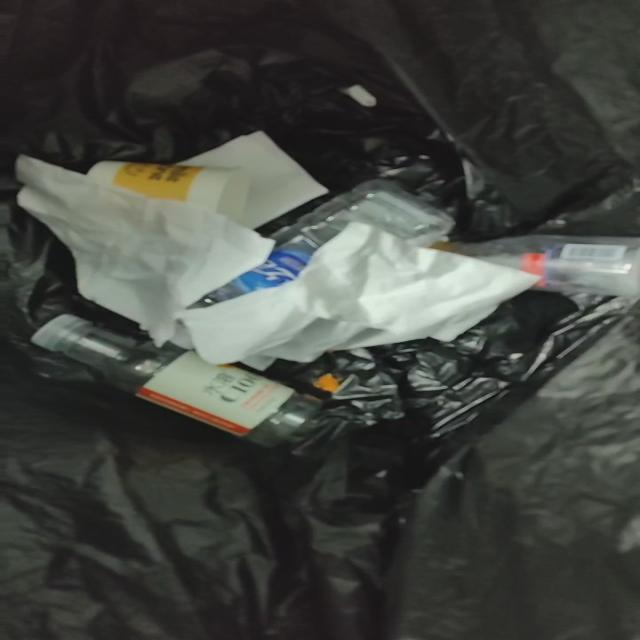bottle: (31, 314, 321, 446), (210, 180, 453, 304), (443, 236, 639, 298)
dixie_cup: (87, 162, 249, 222)
paper: (17, 156, 537, 368), (178, 131, 326, 228)
